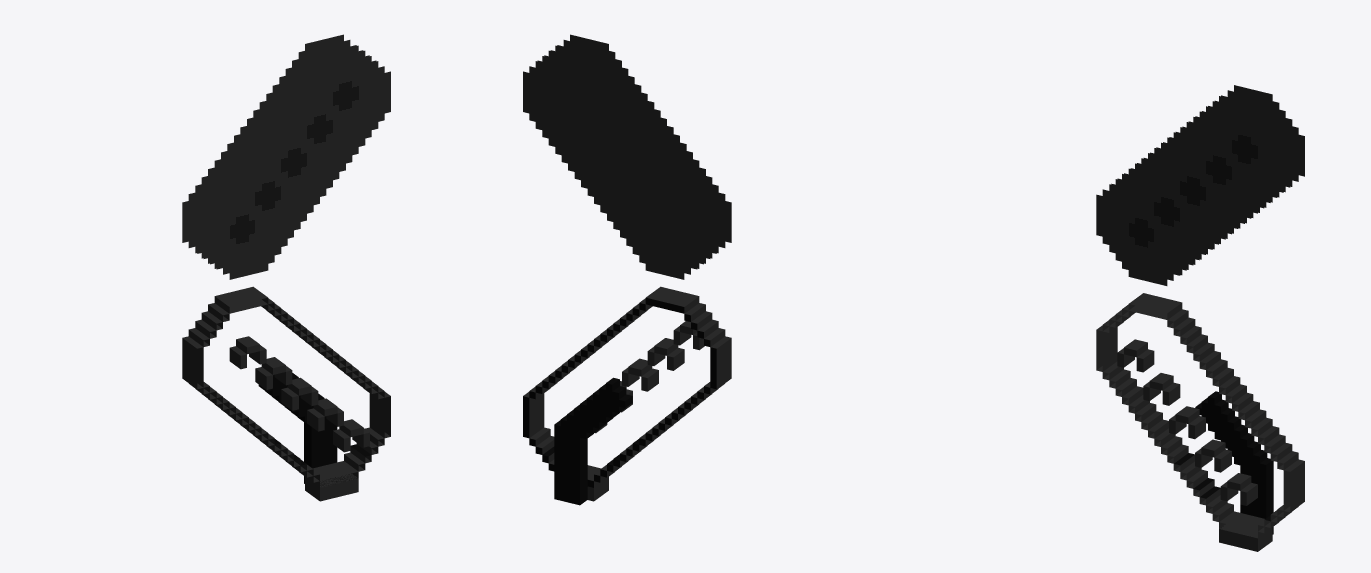
Rendered from indicator_1.obj.
3 views of the same model, side by side, from view 1: azimuth 30°, elevation 25°; view 2: azimuth 150°, elevation 25°; view 3: azimuth 330°, elevation 25° (orthographic).
Size of the model in its own units: 2 by 2.06 by 0.2812.
